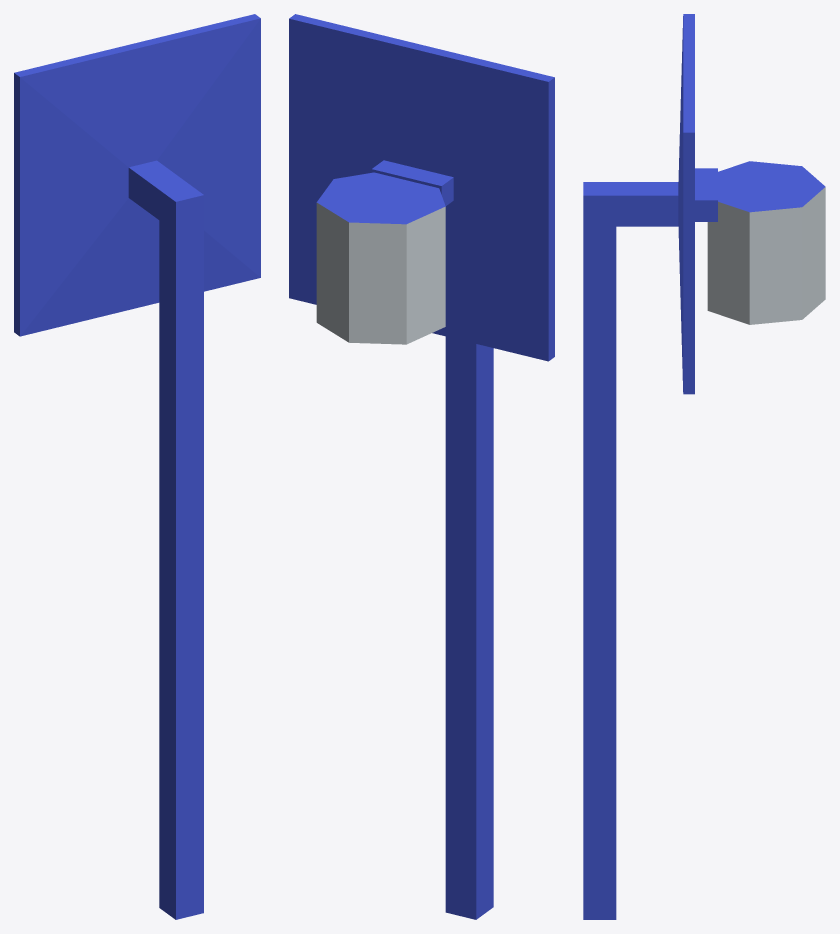
Rendered from canasta.glb.
The picture shows the model from 3 angles, left to right: view 1: azimuth 30°, elevation 25°; view 2: azimuth 150°, elevation 25°; view 3: azimuth 270°, elevation 25°; orthographic projection. The views are drawn at different scales.
Parts seen in each view (by area): view 1: Cube; view 2: Cube; view 3: Cube.
Boxes of the visible parts, box(x1,y1,x2,y2) form: Cube: box(14, 14, 260, 919); Cube: box(289, 14, 554, 919); Cube: box(583, 14, 825, 919).
Size of the model in its own units: 3.56 by 11.74 by 3.07.
